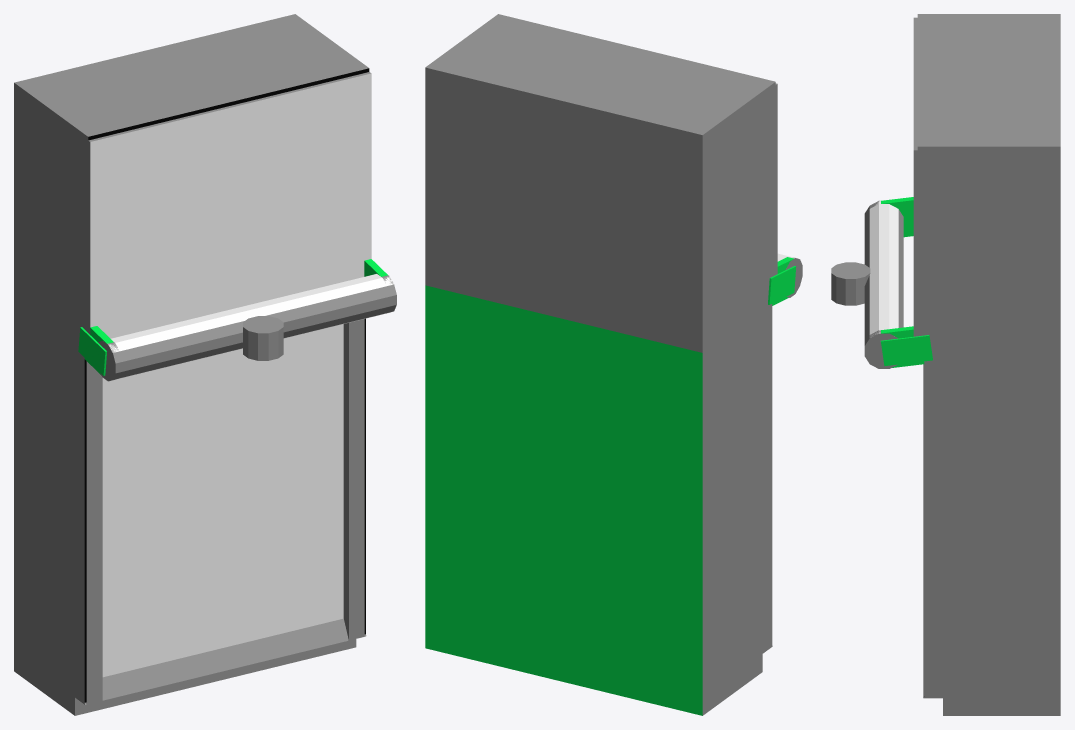
Rendered from mtr_diaoban_b.obj.
The picture shows the model from 3 angles, left to right: view 1: azimuth 30°, elevation 25°; view 2: azimuth 150°, elevation 25°; view 3: azimuth 270°, elevation 25°; orthographic projection. The views are drawn at different scales.
Parts seen in each view (by area): view 1: center, r, l, dl_off; view 2: center, r, l; view 3: center, r, l, dl_off.
Boxes of the visible parts, bbox=[...] form: center: bbox=[14, 14, 396, 715]; r: bbox=[14, 14, 396, 715]; l: bbox=[75, 276, 396, 704]; dl_off: bbox=[243, 316, 283, 360]; center: bbox=[425, 14, 802, 715]; r: bbox=[425, 14, 792, 715]; l: bbox=[762, 257, 794, 652]; center: bbox=[864, 14, 1060, 715]; r: bbox=[864, 14, 1060, 715]; l: bbox=[864, 197, 913, 342]; dl_off: bbox=[831, 262, 870, 305].
Size of the model in its own units: 0.5063 by 1 by 0.3656.
